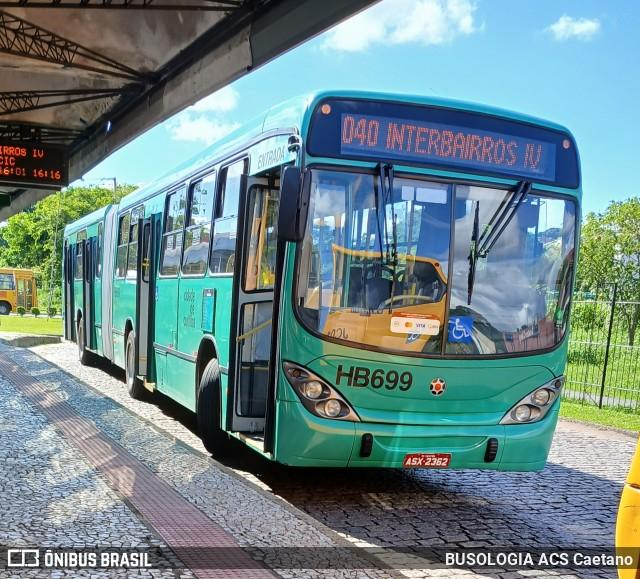INTERBAIRROS IV: (382, 120, 545, 175)
